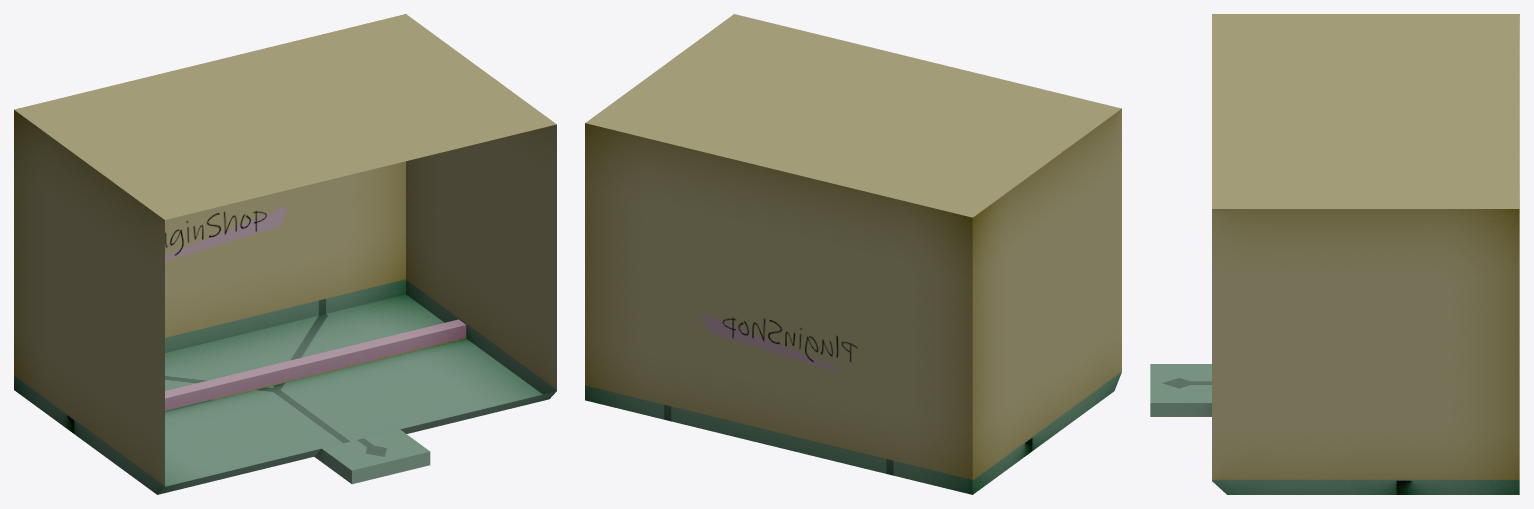
File: ShopObject.fbx
3 views of the same model, side by side, from view 1: azimuth 30°, elevation 25°; view 2: azimuth 150°, elevation 25°; view 3: azimuth 270°, elevation 25° (orthographic). The views are drawn at different scales.
Parts seen in each view (by area): view 1: Model; view 2: Model; view 3: Model.
Part boxes in pixels (x1,y1,x2,y2): Model: (14,14,556,494); Model: (585,14,1121,494); Model: (1150,14,1519,494).
Size of what is drawn, in the model's own units: 6000 by 4100 by 4800.
1 material, 1 textured.
